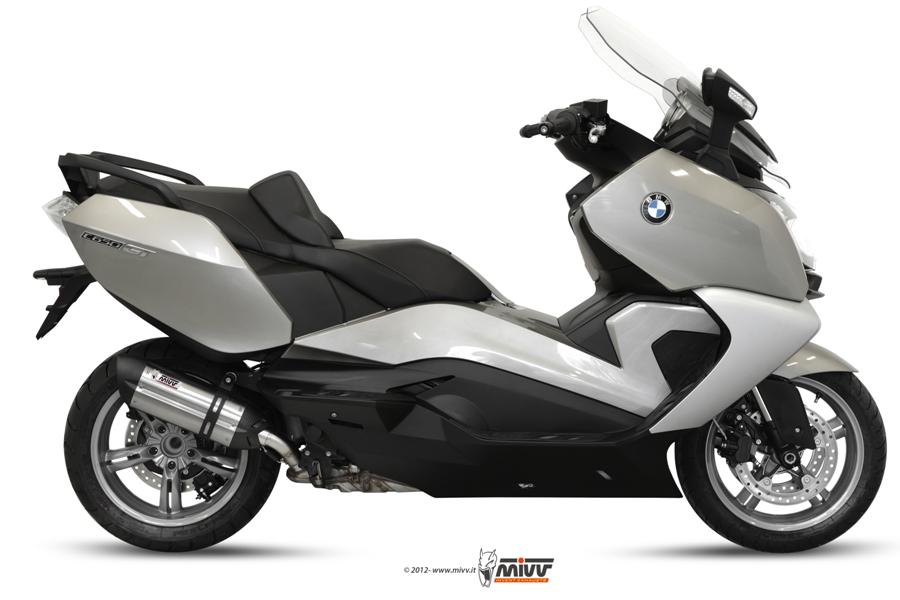engine-chasis: (256, 293, 721, 499)
exhaust: (117, 353, 311, 484), (325, 463, 424, 493)
frontside: (565, 120, 860, 469), (578, 6, 713, 129)
handlebar: (518, 67, 759, 191)
motorbike: (35, 7, 888, 552)
rearside: (32, 151, 388, 489)
seat: (153, 169, 492, 308)
tank: (450, 205, 698, 367)
watermark: (403, 547, 557, 589)
wheel: (64, 337, 282, 553), (674, 372, 888, 554), (713, 415, 728, 441)
